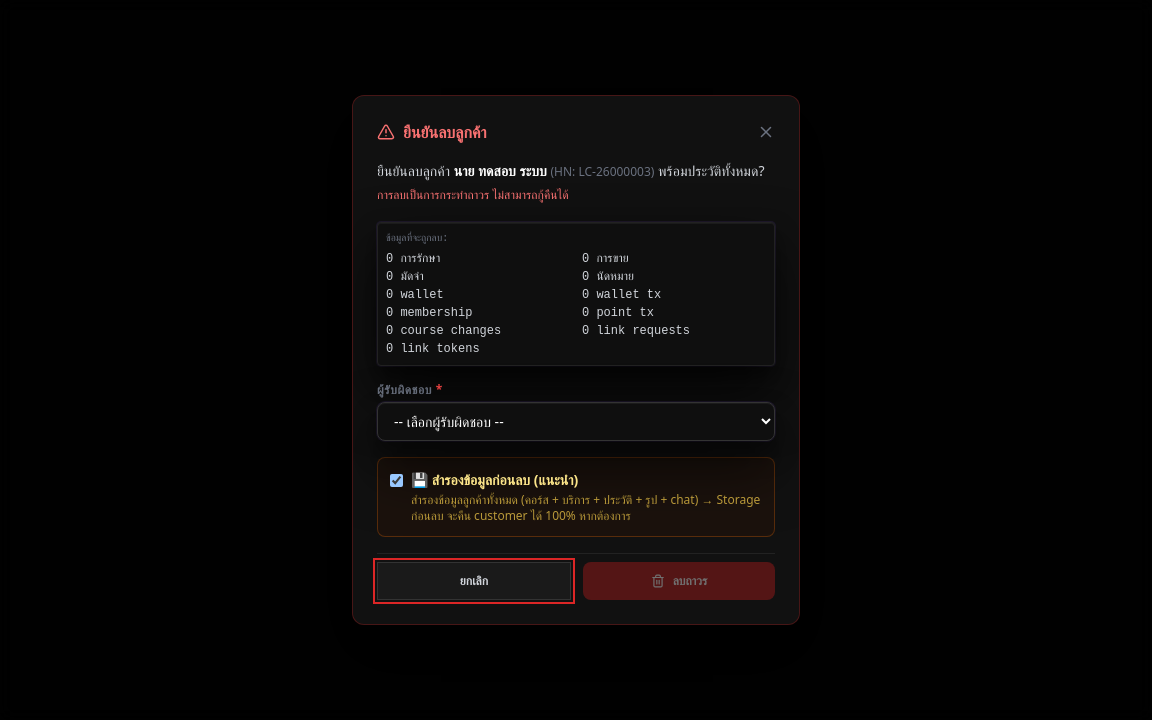
Phase 24.0 / M2 — ลบถาวร button gate (Phase 24.0-bis: single authorizer) › M2.1 disabled until authorizer is selected
Expected: the button with test id "delete-customer-confirm" is disabled, [583, 562, 775, 600]
Select "พนง A" in the dropdown with test id "delete-customer-authorizer-select": (576, 421) [377, 402, 775, 441]
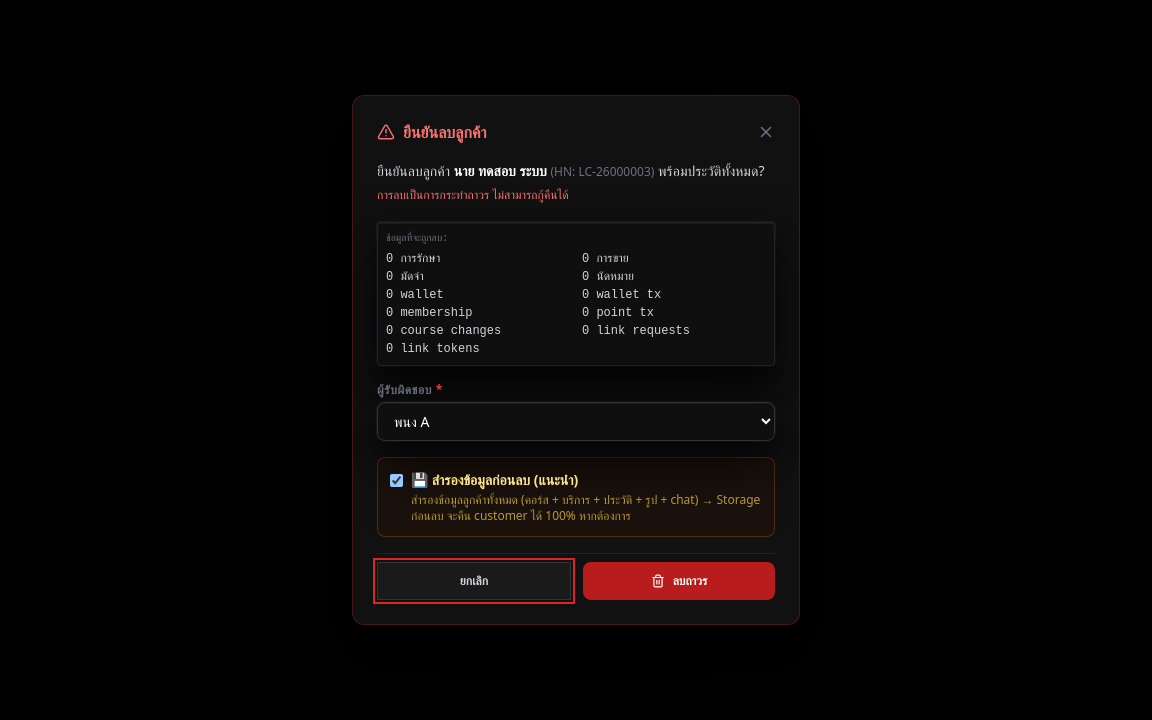
Expected: the button with test id "delete-customer-confirm" is enabled, [583, 562, 775, 600]
